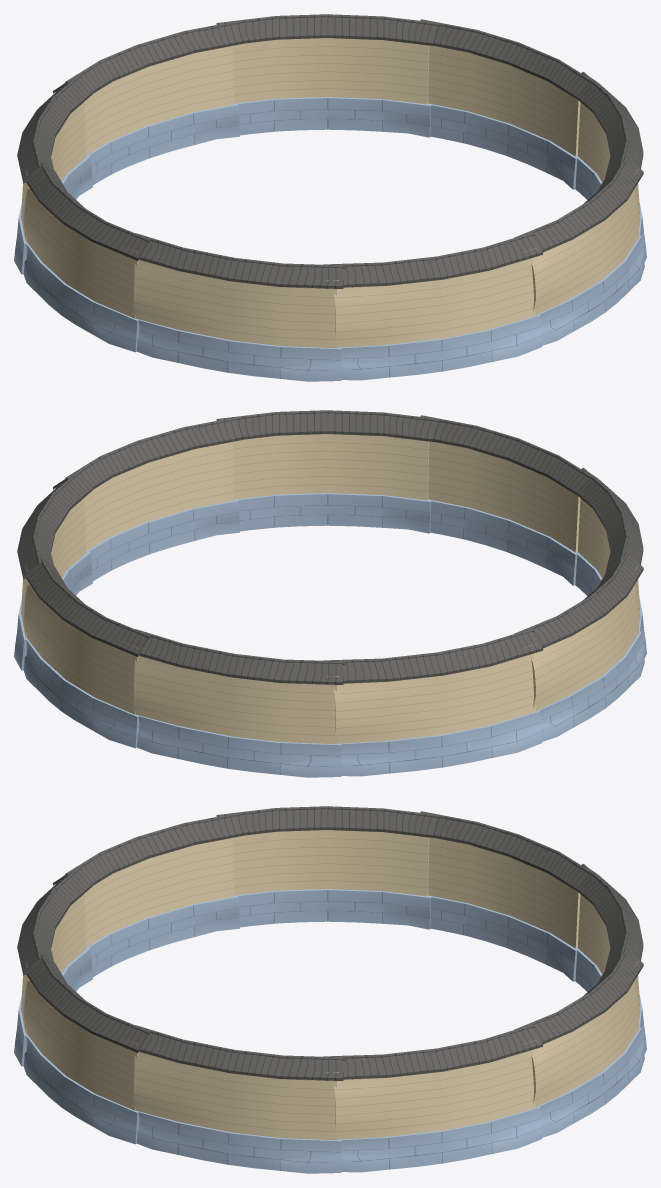
File: wall.fbx
3 renders of one model, top to bottom at view 1: azimuth 30°, elevation 25°; view 2: azimuth 150°, elevation 25°; view 3: azimuth 270°, elevation 25°, orthographic.
Parts seen in each view (by area): view 1: pCube19; view 2: pCube19; view 3: pCube19.
Part boxes in pixels (<box>): pCube19: <box>14,14,646,381</box>; pCube19: <box>14,410,646,777</box>; pCube19: <box>14,806,646,1173</box>.
Size of the model in its own units: 203 by 38.14 by 203.
